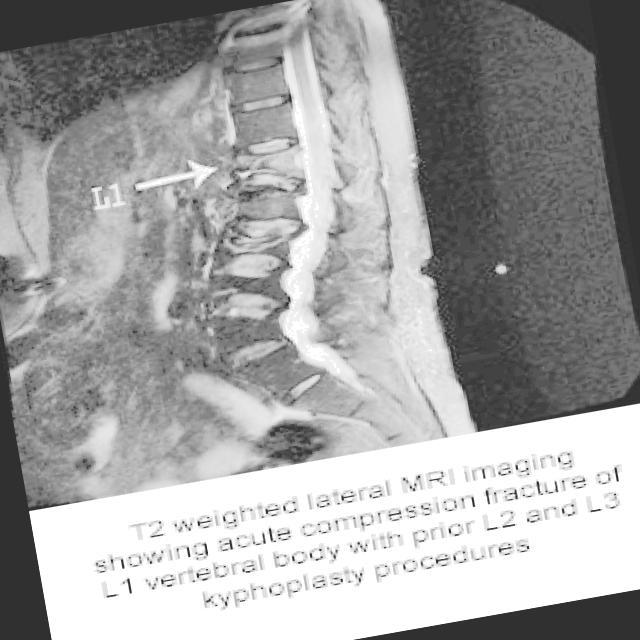Compression-Crush Fracutre: (225, 146, 301, 206)
